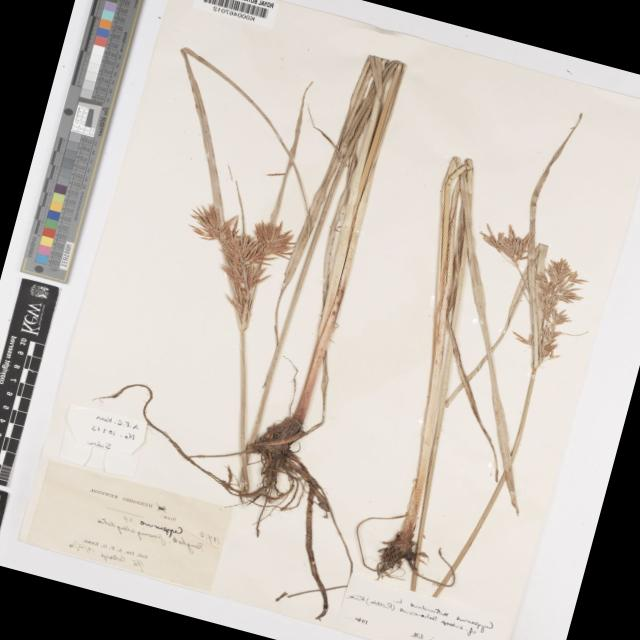cyperus: (444, 212, 606, 380), (162, 194, 310, 338)
